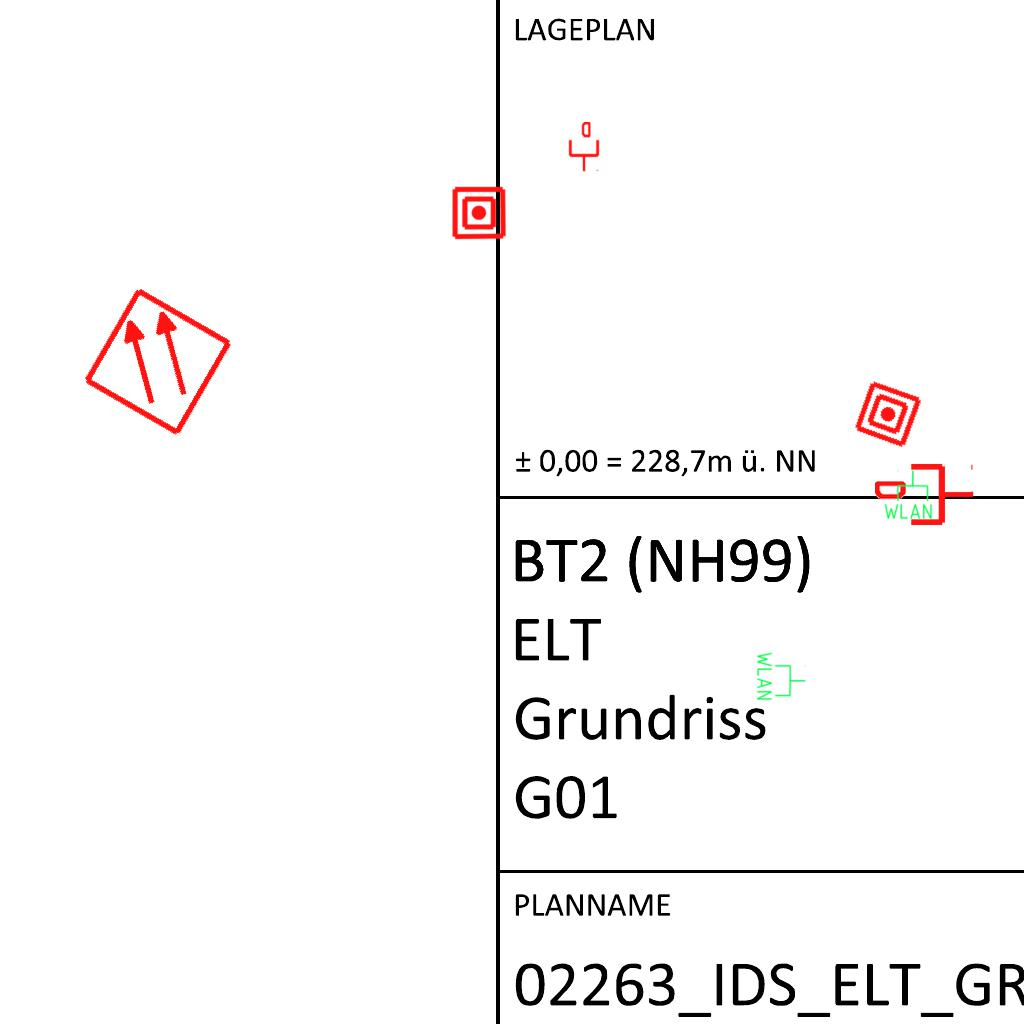Datenanschluss_einfach: (875, 460, 975, 529), (567, 122, 601, 172)
NAM-Nichtautomatischer_Melder: (852, 378, 924, 450), (451, 185, 507, 241)
RMO_Rauchmelder_optischer: (80, 284, 235, 439)
WLAN: (755, 650, 807, 702), (882, 469, 934, 521)
